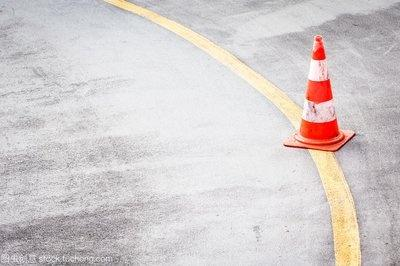cone_barrel: (286, 38, 348, 142)
